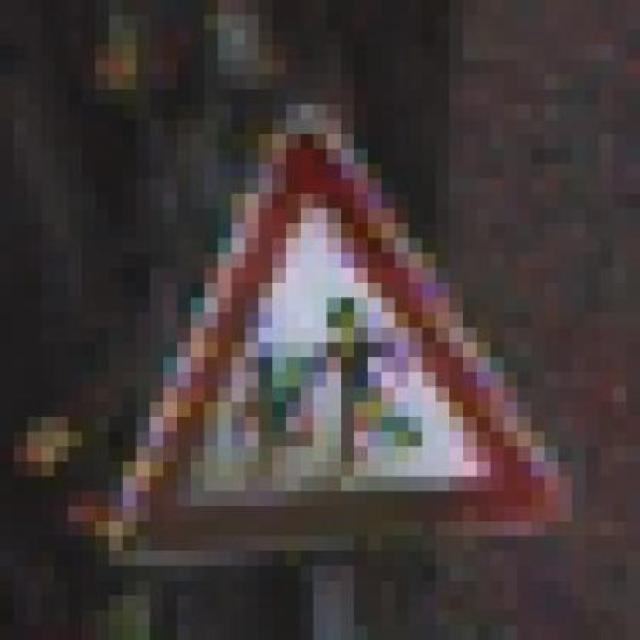Beware of children: (68, 89, 586, 566)
